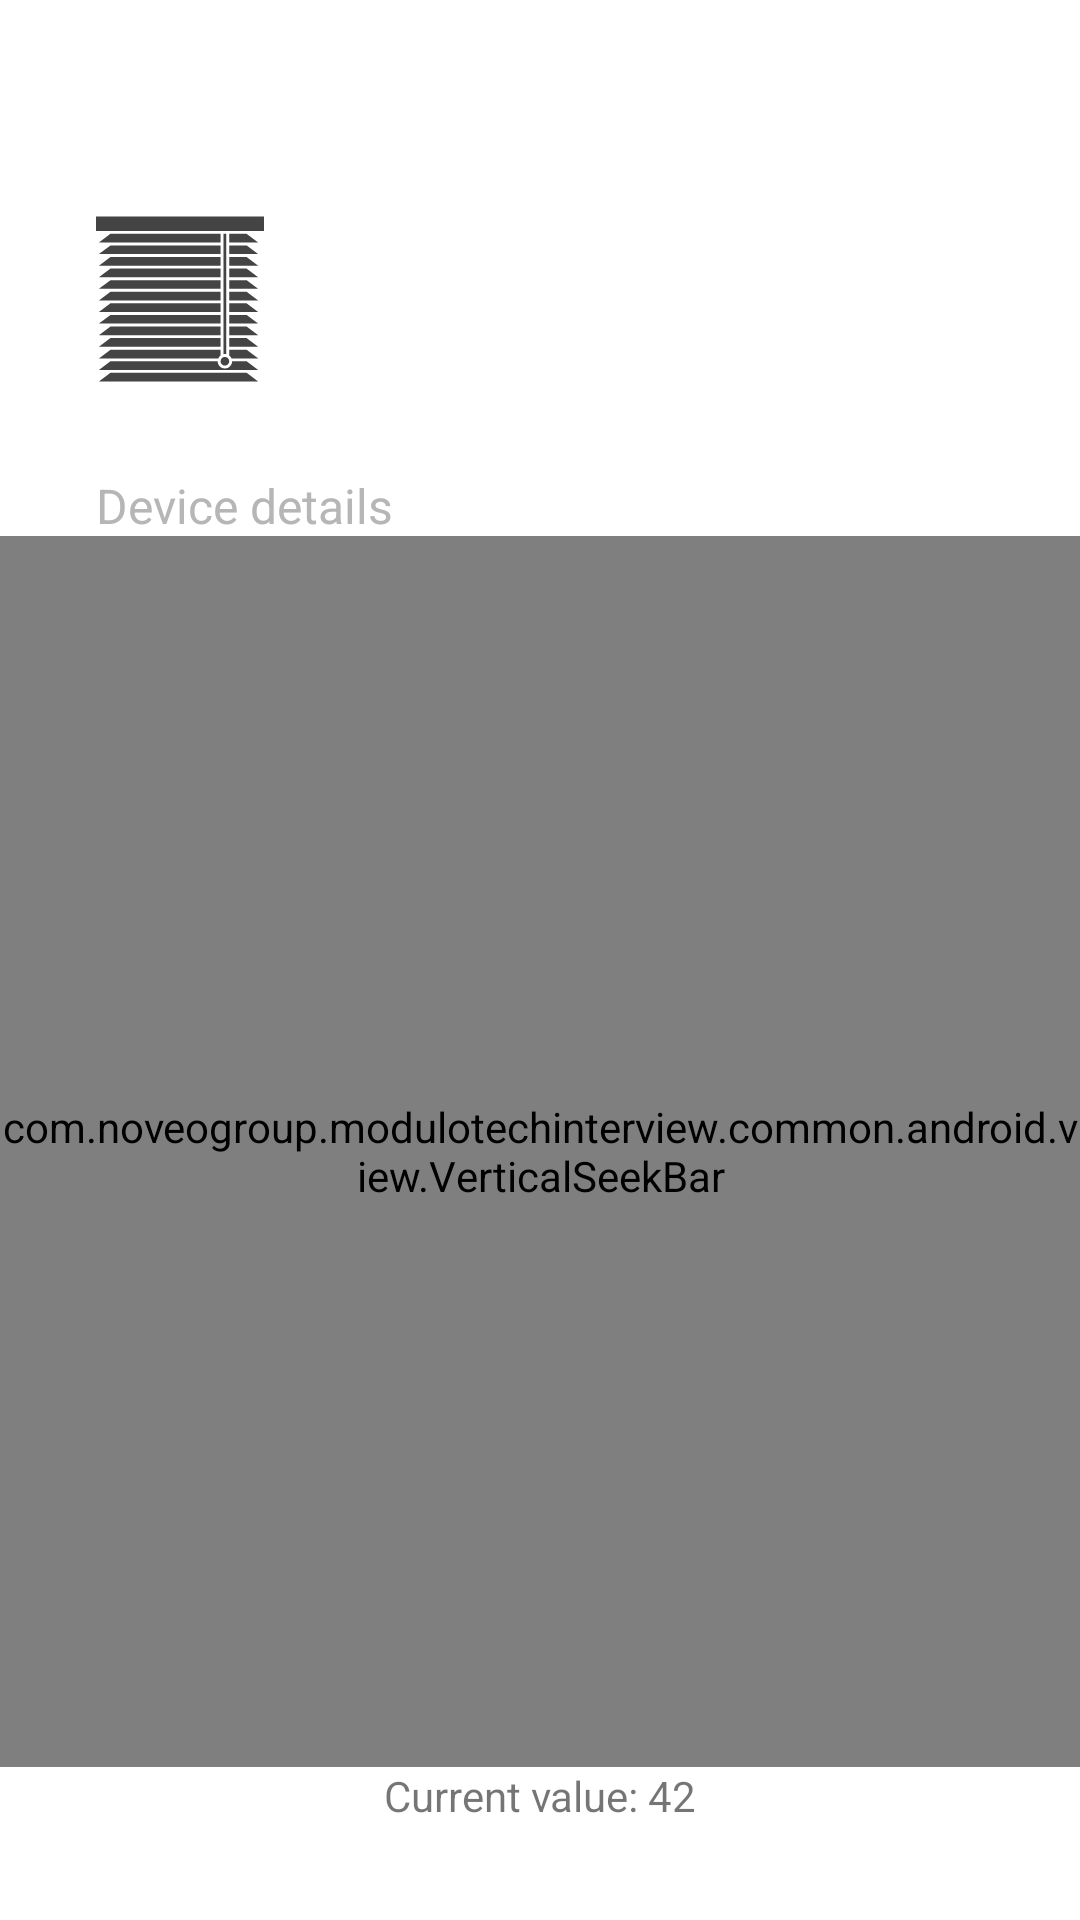

Where to tap for icons on this 1080px×1920px app screen, as (x=x, y=y):
shutters: (x=180, y=299)
